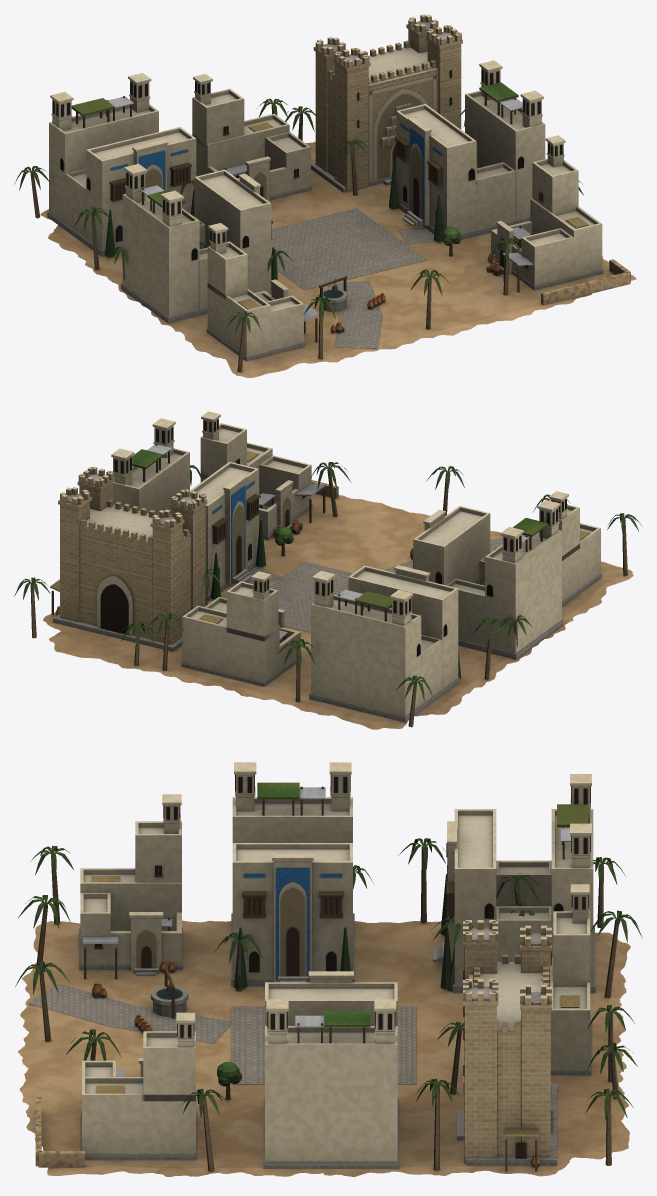
Rendered from kingdoms-town-small-b-levant.glb.
3 views of the same model, one above another, from view 1: azimuth 30°, elevation 25°; view 2: azimuth 150°, elevation 25°; view 3: azimuth 270°, elevation 25° (orthographic). The views are drawn at different scales.
Visible parts, largest first — view 1: LOD0; view 2: LOD0; view 3: LOD0.
Part boxes in pixels (x1=…): LOD0: x1=14, y1=14, x2=636, y2=377; LOD0: x1=14, y1=411, x2=642, y2=729; LOD0: x1=15, y1=762, x2=642, y2=1176.
Size of what is drawn, in the model's own units: 4.13 by 1.25 by 4.08.
3 materials, 3 textured.
